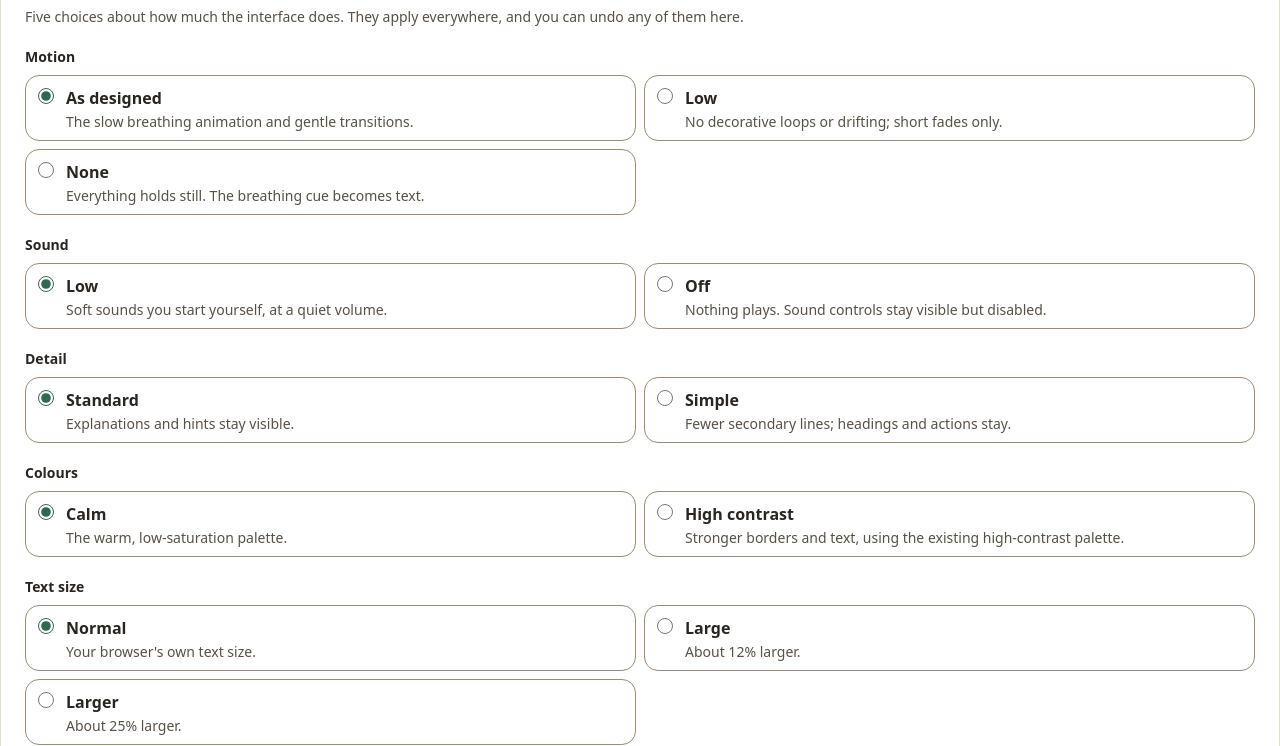
Settings → Sensory profile › resets to defaults in one step
Step 1. Click the radio button labelled "None Everything holds still. The breathing cue becomes text." → (46, 170), box [38, 162, 54, 178]
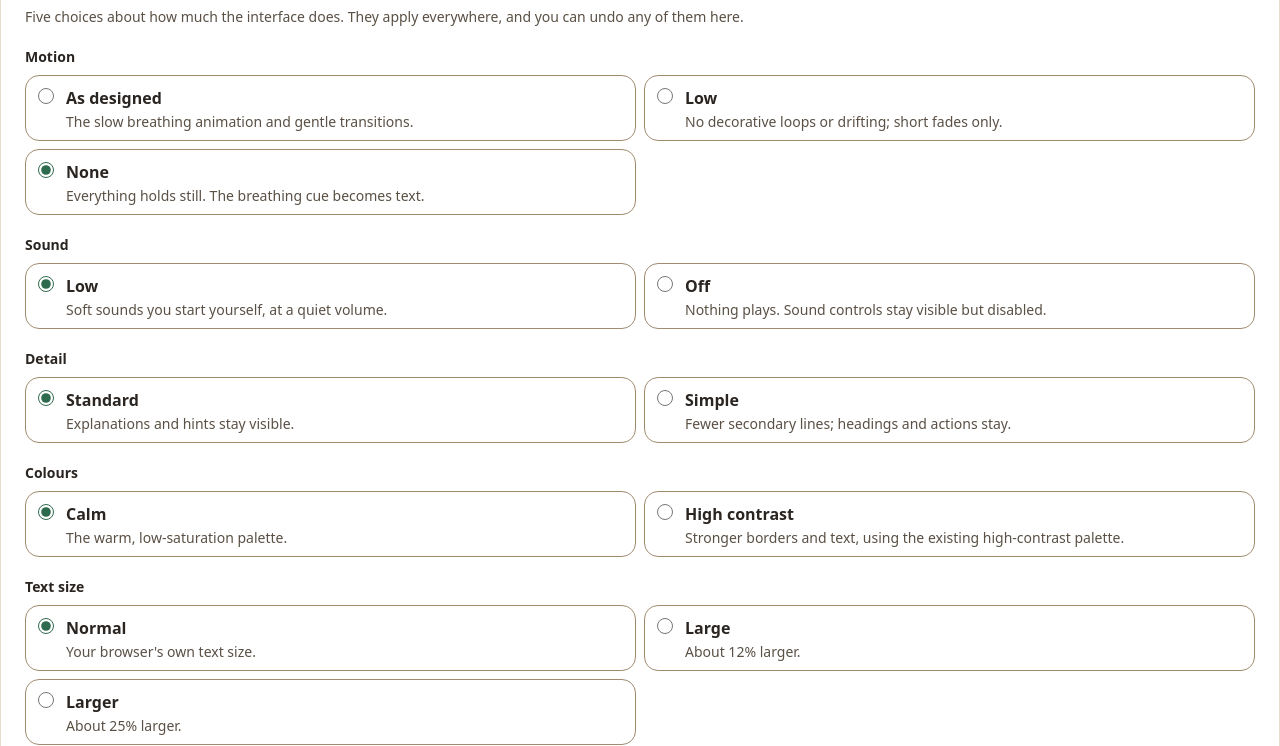
Step 2. Click the radio button labelled "Larger About 25% larger." → (46, 700), box [38, 692, 54, 708]
(page scrolled)
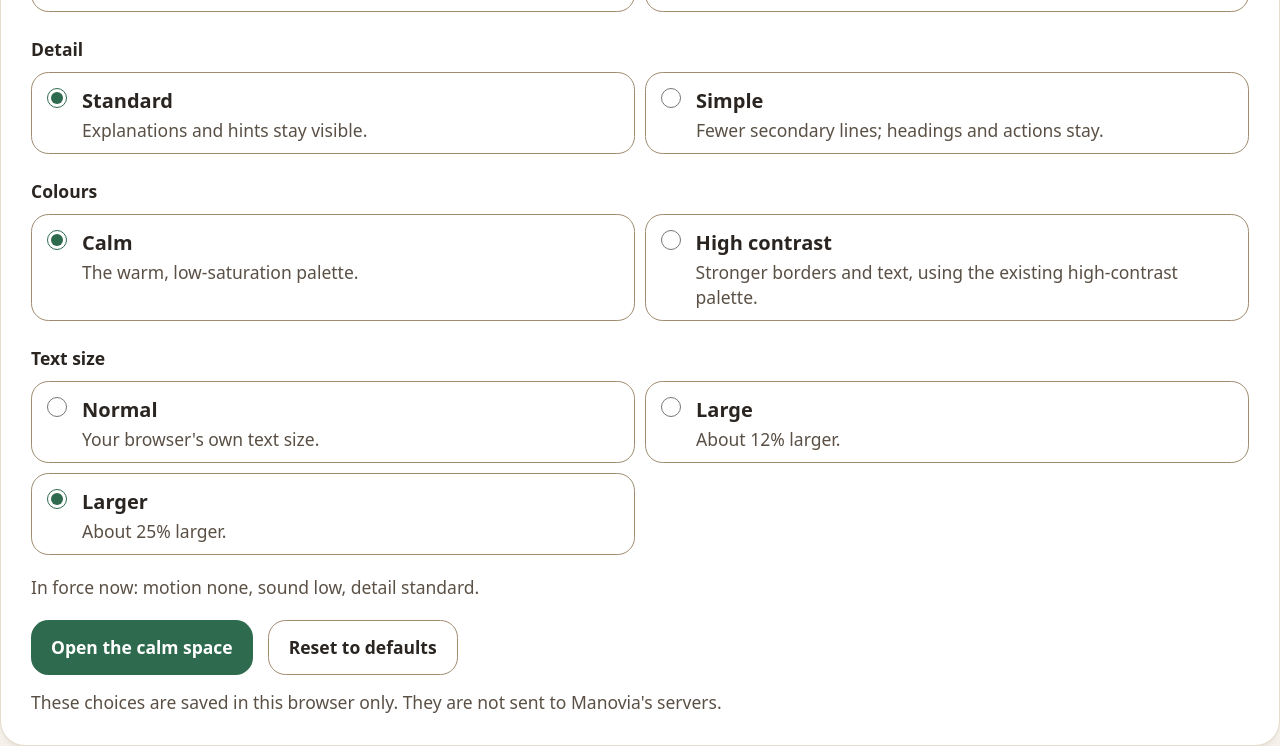
Step 3. Click the button "Reset to defaults" → (363, 648), box [268, 620, 458, 675]
(page scrolled)
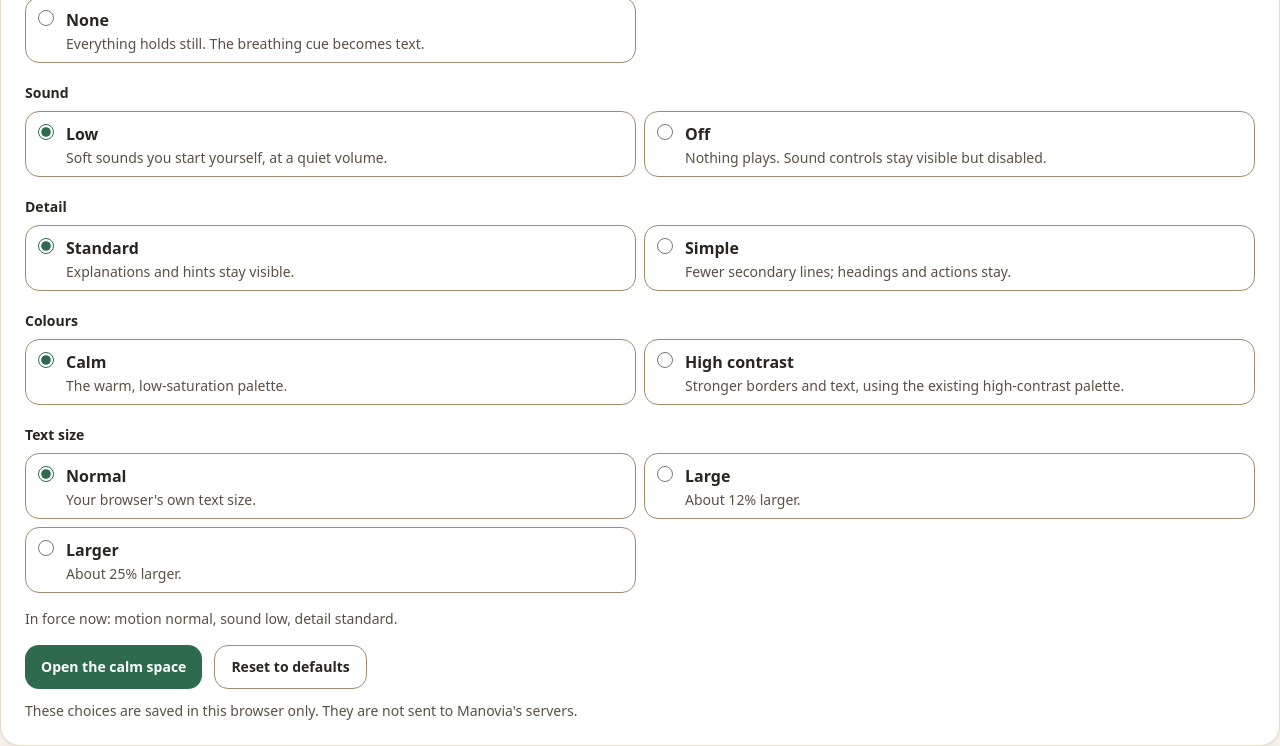
Now the radio button labelled "Normal Your browser's own text size." is checked, box [38, 466, 54, 482]
